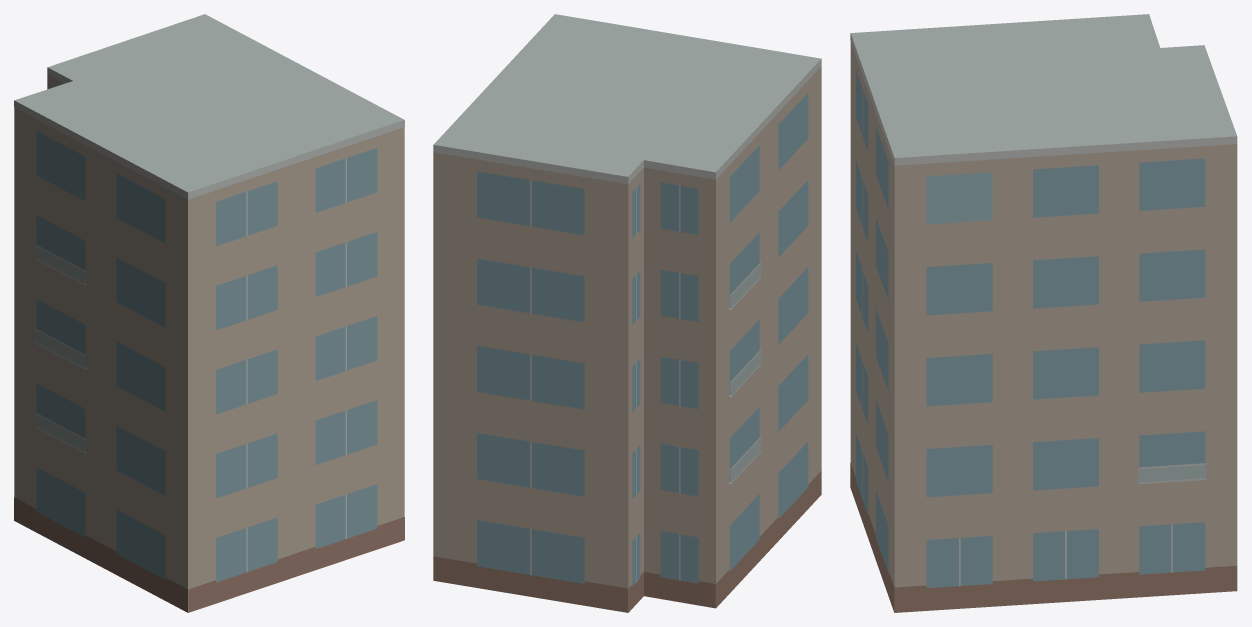
Rendered from survey-upis-32904092.glb.
3 views of the same model, side by side, from view 1: azimuth 30°, elevation 25°; view 2: azimuth 150°, elevation 25°; view 3: azimuth 270°, elevation 25° (orthographic). The views are drawn at different scales.
Visible parts, largest first — view 1: survey-upis-32904092.tmp; view 2: survey-upis-32904092.tmp; view 3: survey-upis-32904092.tmp.
Boxes of the visible parts, x1,y1,x2,y2 form: survey-upis-32904092.tmp: (14,14,404,612); survey-upis-32904092.tmp: (433,14,821,612); survey-upis-32904092.tmp: (850,14,1237,612).
Size of the model in its own units: 9.86 by 14.5 by 11.19.
